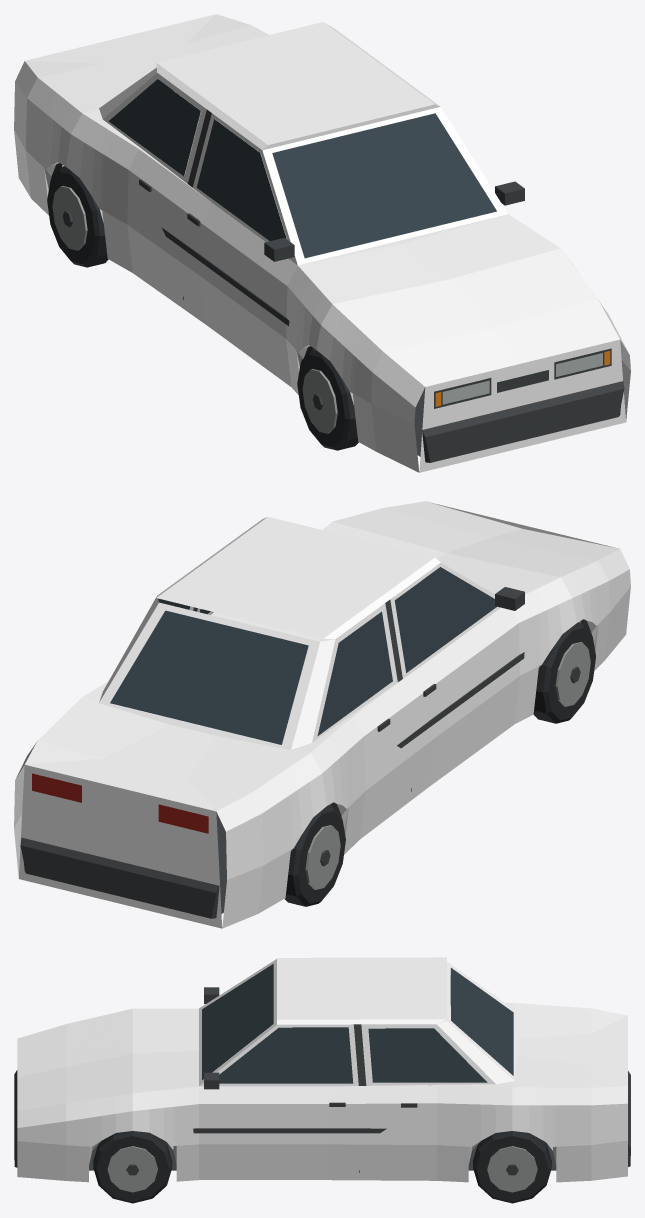
Rendered from kanaya_kazane.glb.
3 views of the same model, one above another, from view 1: azimuth 30°, elevation 25°; view 2: azimuth 150°, elevation 25°; view 3: azimuth 270°, elevation 25° (orthographic). The views are drawn at different scales.
Parts seen in each view (by area): view 1: kanaya_kazane; view 2: kanaya_kazane; view 3: kanaya_kazane.
Part boxes in pixels (x1,y1,x2,y2): kanaya_kazane: (14,14,630,472); kanaya_kazane: (14,501,630,928); kanaya_kazane: (14,957,630,1203).
Bounding box in the file's own units: 1.81 × 1.49 × 4.89.
8 materials, 1 textured.
